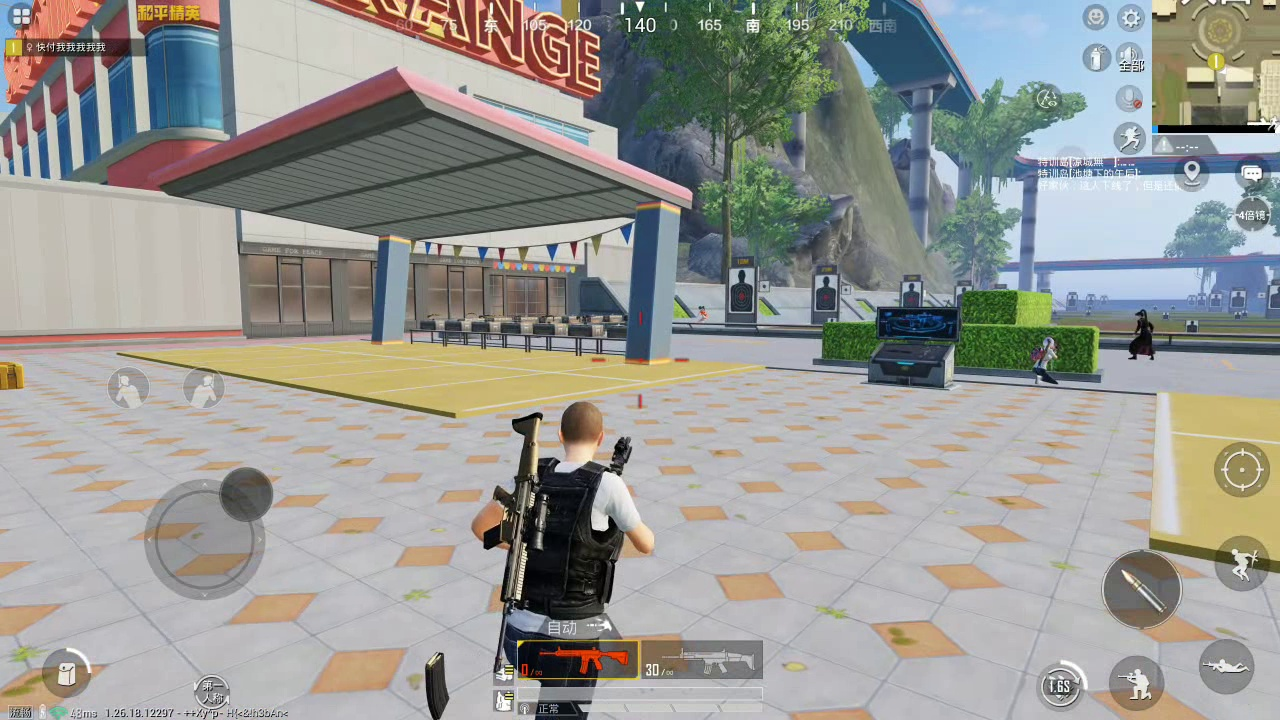enemy: (1031, 336, 1061, 386), (1130, 310, 1154, 360), (697, 305, 708, 323)
